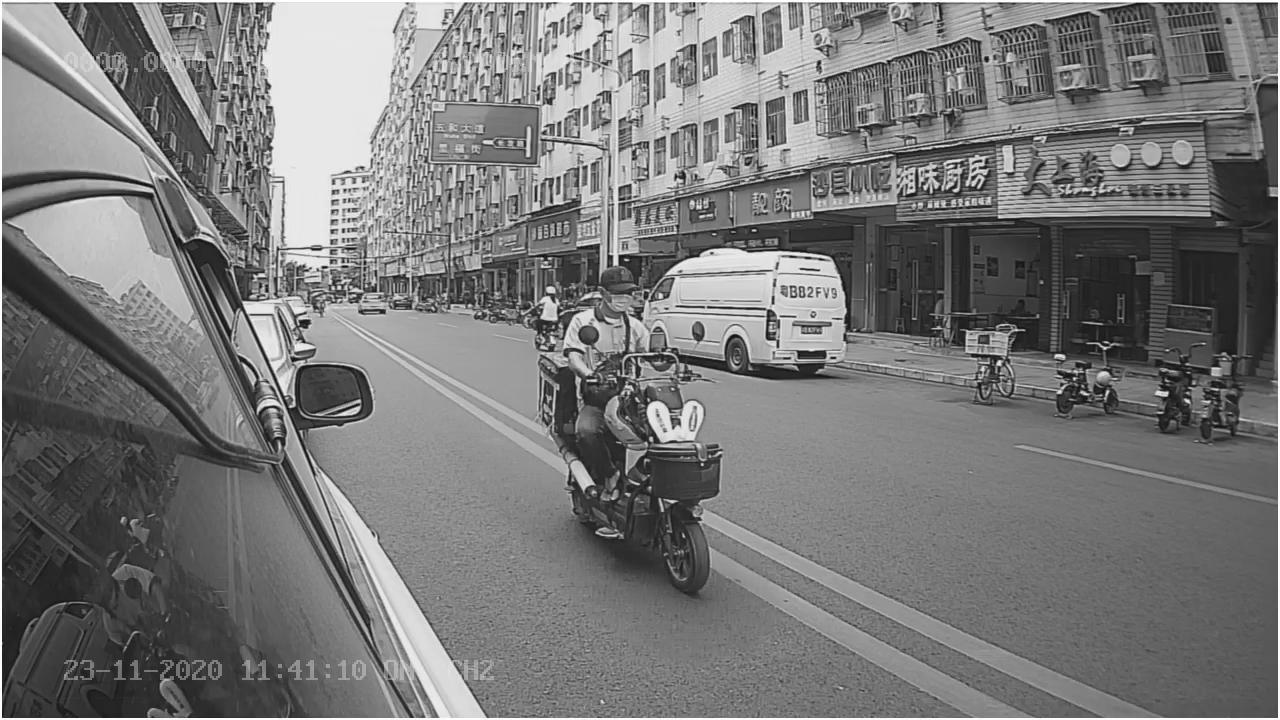person: (557, 263, 654, 360)
